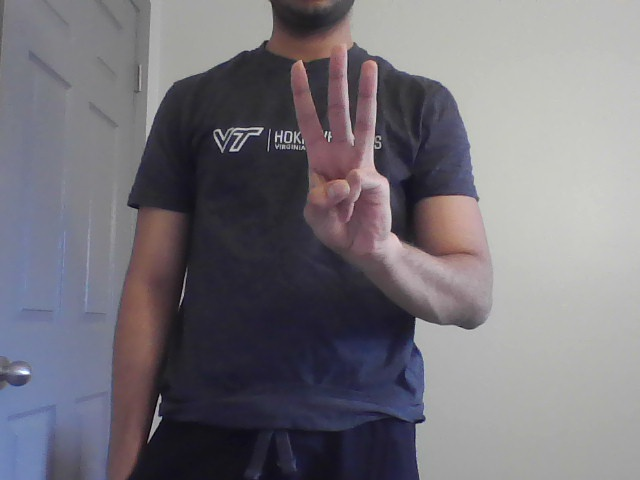three: (287, 39, 397, 248)
